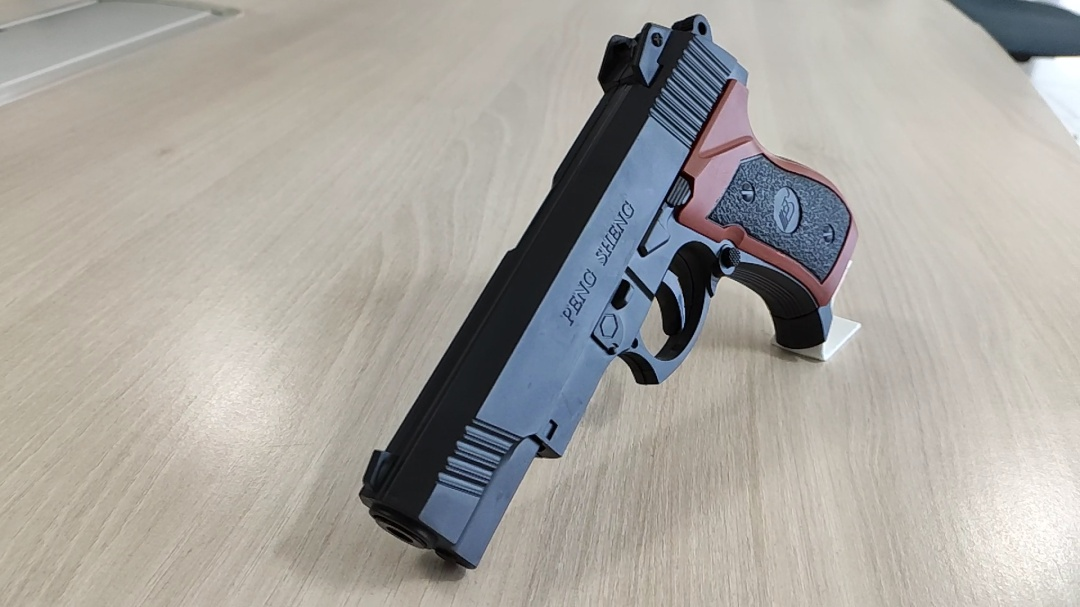gun: (474, 183, 495, 216)
